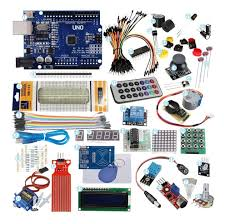arduino: (10, 9, 103, 70)
